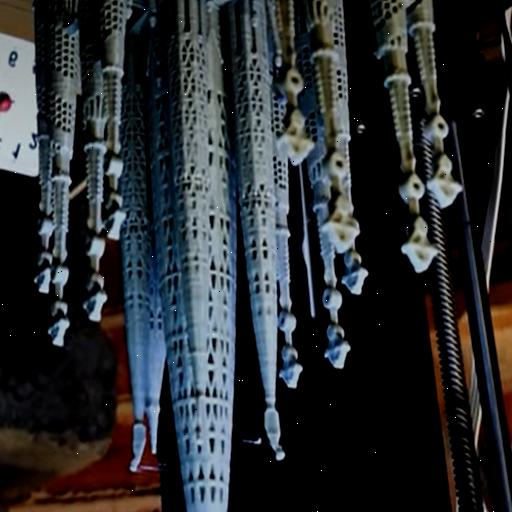stringing: (138, 451, 184, 479), (242, 430, 272, 452)
